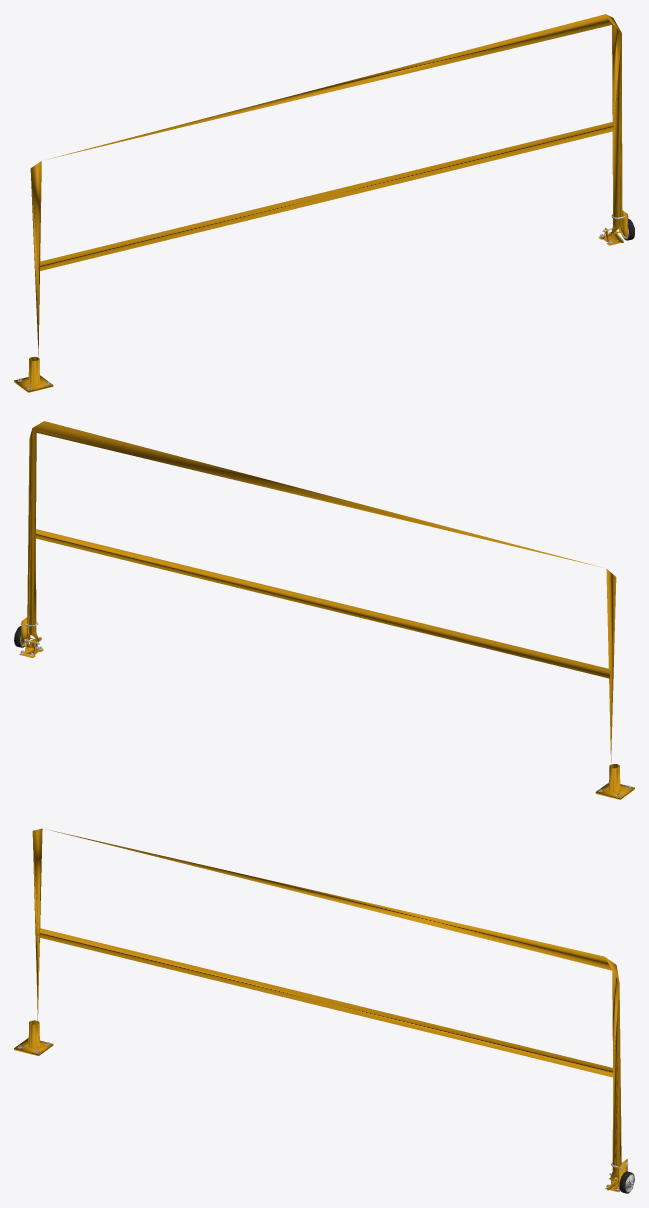
The model's file is dockgate.glb.
3 views of the same model, one above another, from view 1: azimuth 30°, elevation 25°; view 2: azimuth 150°, elevation 25°; view 3: azimuth 330°, elevation 25° (orthographic).
Parts seen in each view (by area): view 1: arm, body; view 2: arm, body; view 3: arm, body.
Part boxes in pixels (x1=…): arm: x1=30, y1=14, x2=634, y2=355; body: x1=14, y1=356, x2=53, y2=392; arm: x1=14, y1=421, x2=616, y2=762; body: x1=595, y1=764, x2=634, y2=799; arm: x1=32, y1=828, x2=634, y2=1193; body: x1=14, y1=1020, x2=53, y2=1055.
Size of the model in its own units: 3.16 by 1.14 by 0.1472.
4 materials, 3 textured.
